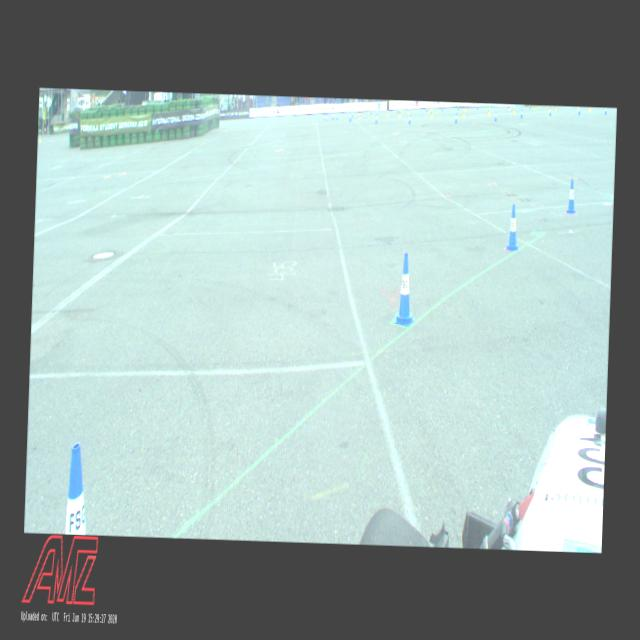blue_cone: (64, 442, 90, 534), (394, 252, 416, 326), (505, 203, 520, 251), (566, 178, 576, 213), (454, 112, 457, 123), (374, 113, 377, 123), (348, 112, 351, 121), (494, 110, 496, 121), (520, 108, 522, 118), (408, 114, 410, 124), (604, 108, 607, 114), (578, 106, 580, 114), (332, 113, 334, 120), (549, 108, 551, 115), (324, 114, 326, 120), (456, 104, 458, 110), (476, 104, 478, 109), (336, 113, 337, 120), (426, 105, 427, 112), (370, 108, 371, 115), (326, 114, 327, 120), (397, 106, 398, 112), (351, 112, 352, 117), (442, 104, 442, 110)
yellow_cone: (512, 105, 515, 113), (430, 109, 432, 118), (462, 108, 464, 117), (488, 106, 490, 115), (399, 108, 401, 117), (464, 105, 466, 112), (368, 112, 370, 118), (508, 104, 510, 110), (532, 104, 534, 110), (547, 106, 549, 112), (38, 135, 40, 141), (588, 107, 590, 112), (376, 110, 377, 118), (408, 110, 410, 114), (554, 106, 556, 110), (359, 112, 360, 120), (358, 112, 359, 119), (437, 108, 438, 114), (387, 110, 388, 116)
